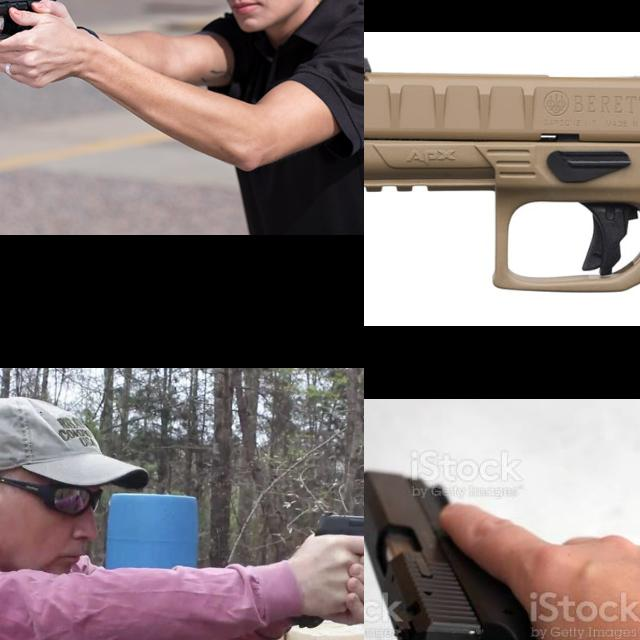handgun: (364, 52, 640, 326), (364, 466, 559, 640), (313, 507, 364, 565), (0, 0, 60, 42)
